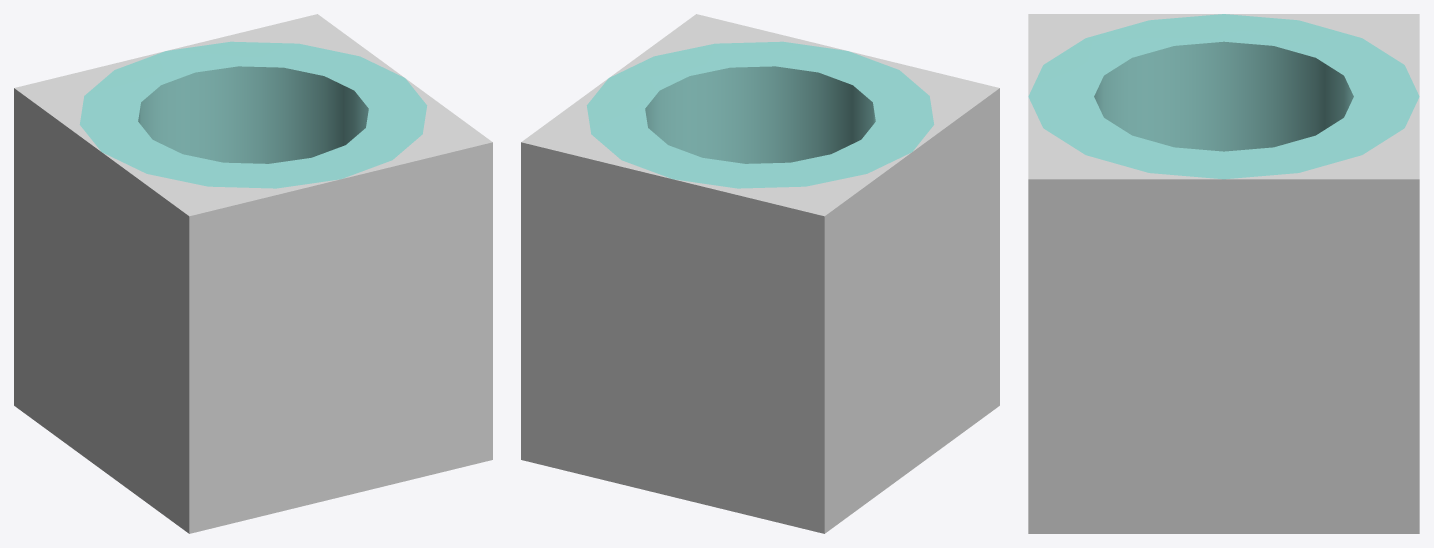
The model's file is Proto_Goal_wider.fbx.
3 views of the same model, side by side, from view 1: azimuth 30°, elevation 25°; view 2: azimuth 150°, elevation 25°; view 3: azimuth 270°, elevation 25° (orthographic). The views are drawn at different scales.
Parts seen in each view (by area): view 1: Proto_Goal; view 2: Proto_Goal; view 3: Proto_Goal.
Boxes of the visible parts, x1,y1,x2,y2 form: Proto_Goal: (14, 14, 492, 533); Proto_Goal: (521, 14, 999, 533); Proto_Goal: (1028, 14, 1419, 533).
Bounding box in the file's own units: 200 × 200 × 200.
